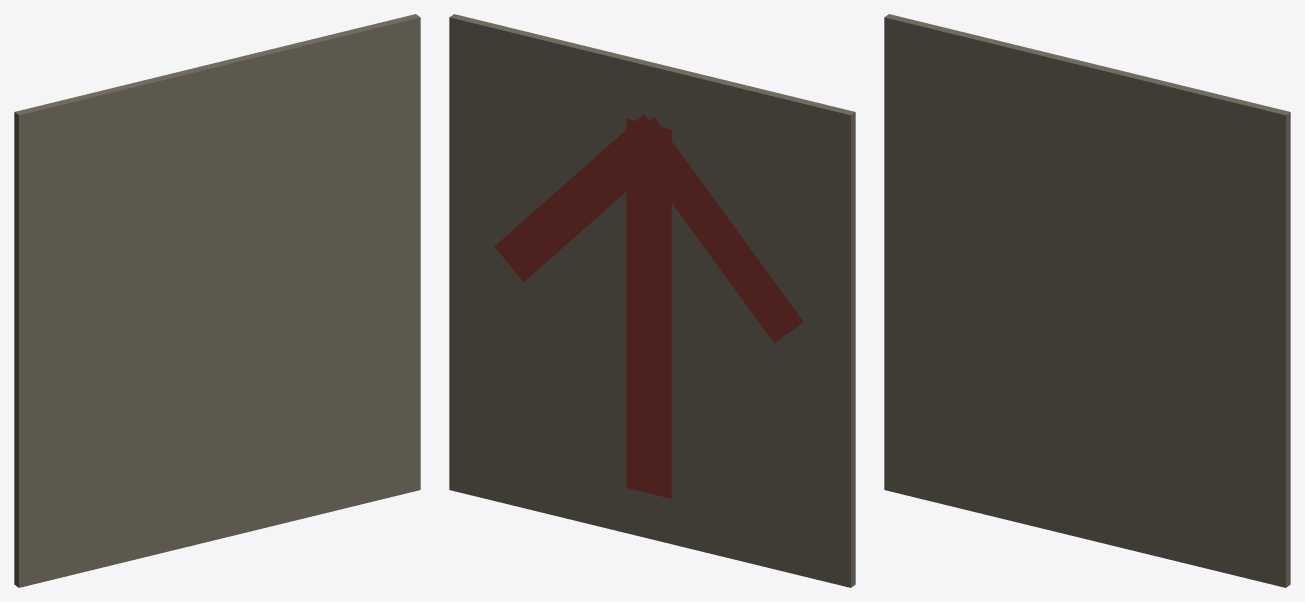
Rendered from stair_arrow_spray.glb.
The picture shows the model from 3 angles, left to right: view 1: azimuth 30°, elevation 25°; view 2: azimuth 150°, elevation 25°; view 3: azimuth 330°, elevation 25°; orthographic projection.
Parts seen in each view (by area): view 1: stair_arrow_spray; view 2: stair_arrow_spray; view 3: stair_arrow_spray.
Part boxes in pixels (box(x1,y1,x2,y2)): stair_arrow_spray: box(14, 14, 420, 587); stair_arrow_spray: box(449, 14, 855, 587); stair_arrow_spray: box(884, 14, 1290, 587).
Bounding box in the file's own units: 0.4 × 0.45 × 0.01.
2 materials, 2 textured.
